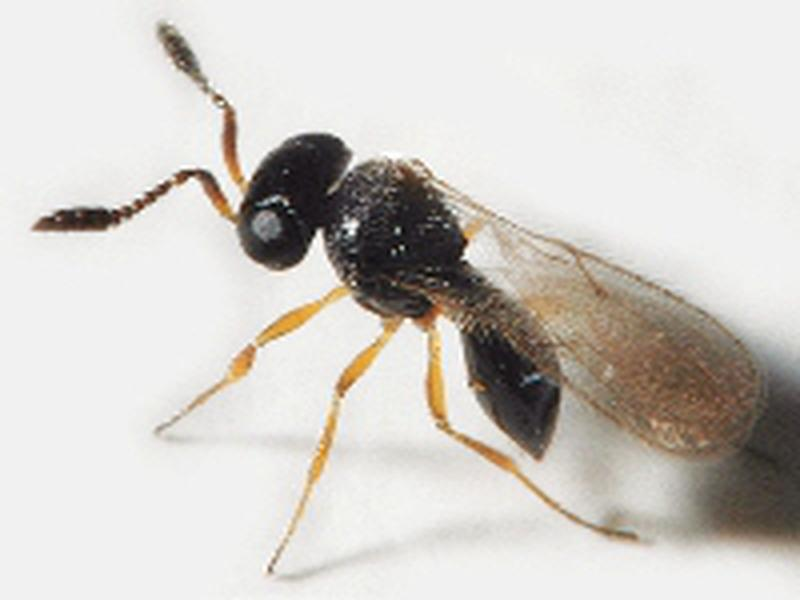Rice_earhead_bug: (127, 120, 776, 470)
